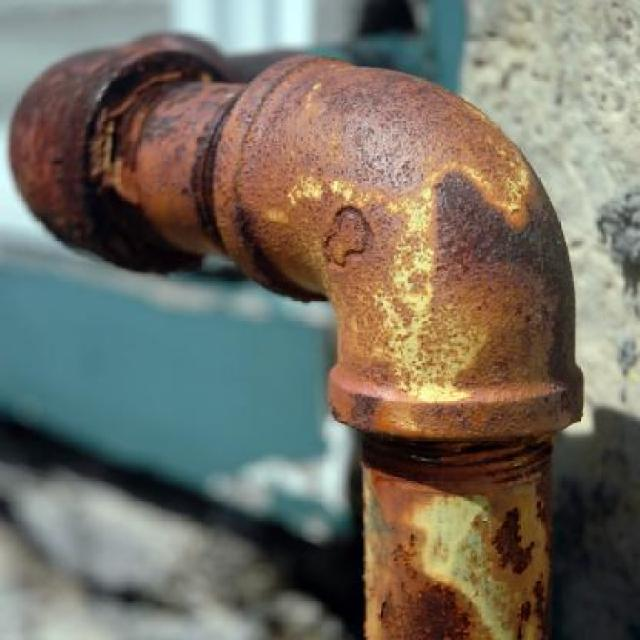corrosion: (9, 29, 591, 640)
